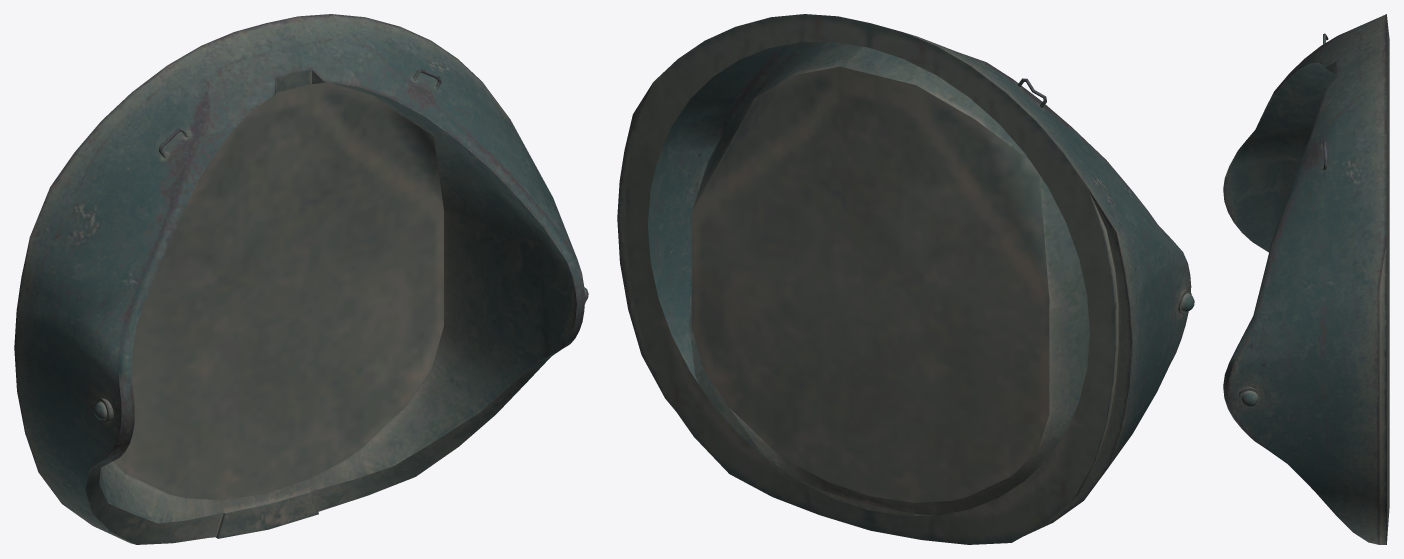
Rendered from Turret_01.glb.
3 views of the same model, side by side, from view 1: azimuth 30°, elevation 25°; view 2: azimuth 150°, elevation 25°; view 3: azimuth 270°, elevation 25° (orthographic). The views are drawn at different scales.
Visible parts, largest first — view 1: set_0_group_0; view 2: set_0_group_0; view 3: set_0_group_0.
Boxes of the visible parts, bbox=[...] form: set_0_group_0: bbox=[14, 14, 588, 544]; set_0_group_0: bbox=[617, 14, 1194, 544]; set_0_group_0: bbox=[1223, 14, 1389, 544].
Size of the model in its own units: 2.91 by 2.75 by 0.8995.
1 material, 1 textured.
